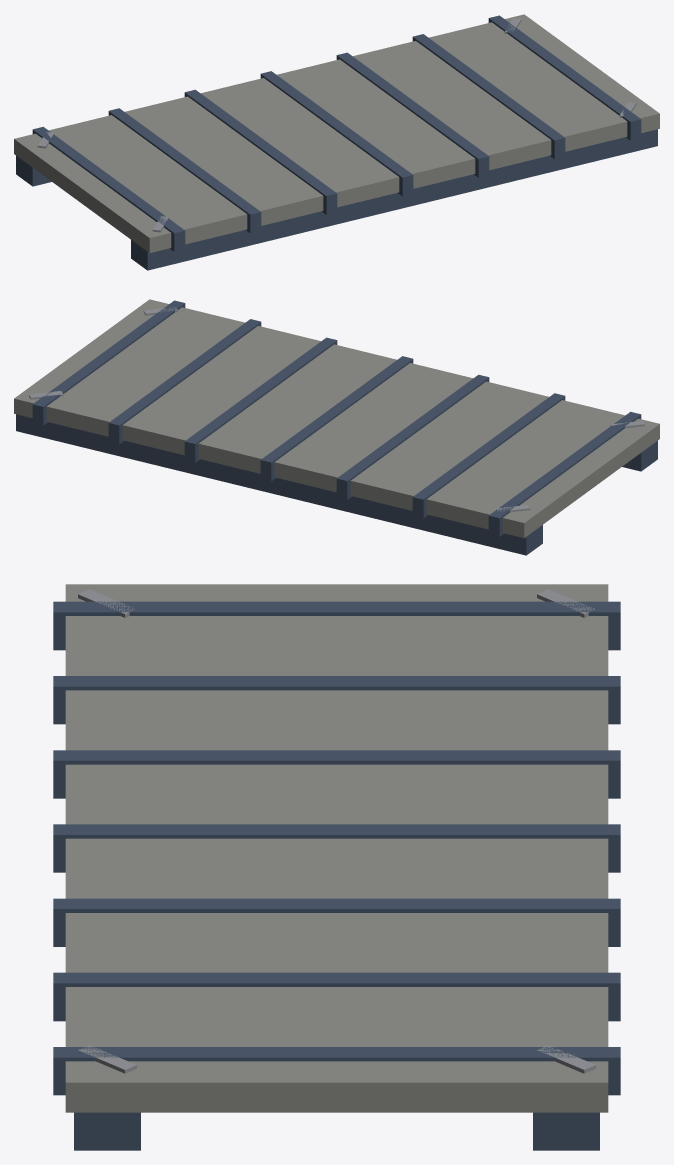
File: ko300_skid.obj
3 views of the same model, one above another, from view 1: azimuth 30°, elevation 25°; view 2: azimuth 150°, elevation 25°; view 3: azimuth 270°, elevation 25° (orthographic). The views are drawn at different scales.
Visible parts, largest first — view 1: ko300_skid; view 2: ko300_skid; view 3: ko300_skid.
Part boxes in pixels (x1,y1,x2,y2): ko300_skid: [14, 14, 659, 270]; ko300_skid: [14, 299, 659, 555]; ko300_skid: [53, 584, 620, 1150].
Bounding box in the file's own units: 2.82 × 0.19 × 1.36.
